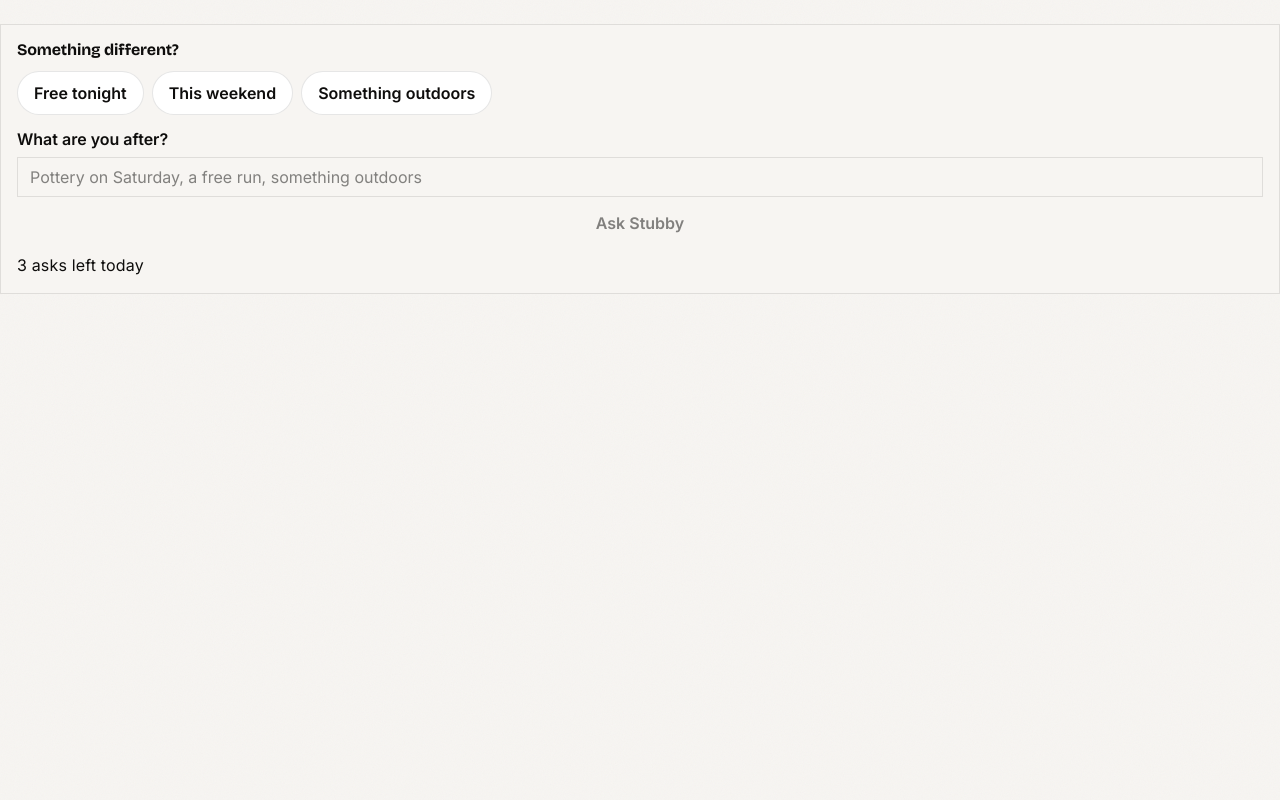
Test: AskStubby › asks, makes Stubby think then stamp, and shows what he found
Expected: the text "3 asks left today" is shown, [17, 255, 144, 275]
Type "pottery on Saturday" into the field labelled "What are you after?". click: (640, 177)
box: [17, 157, 1263, 197]
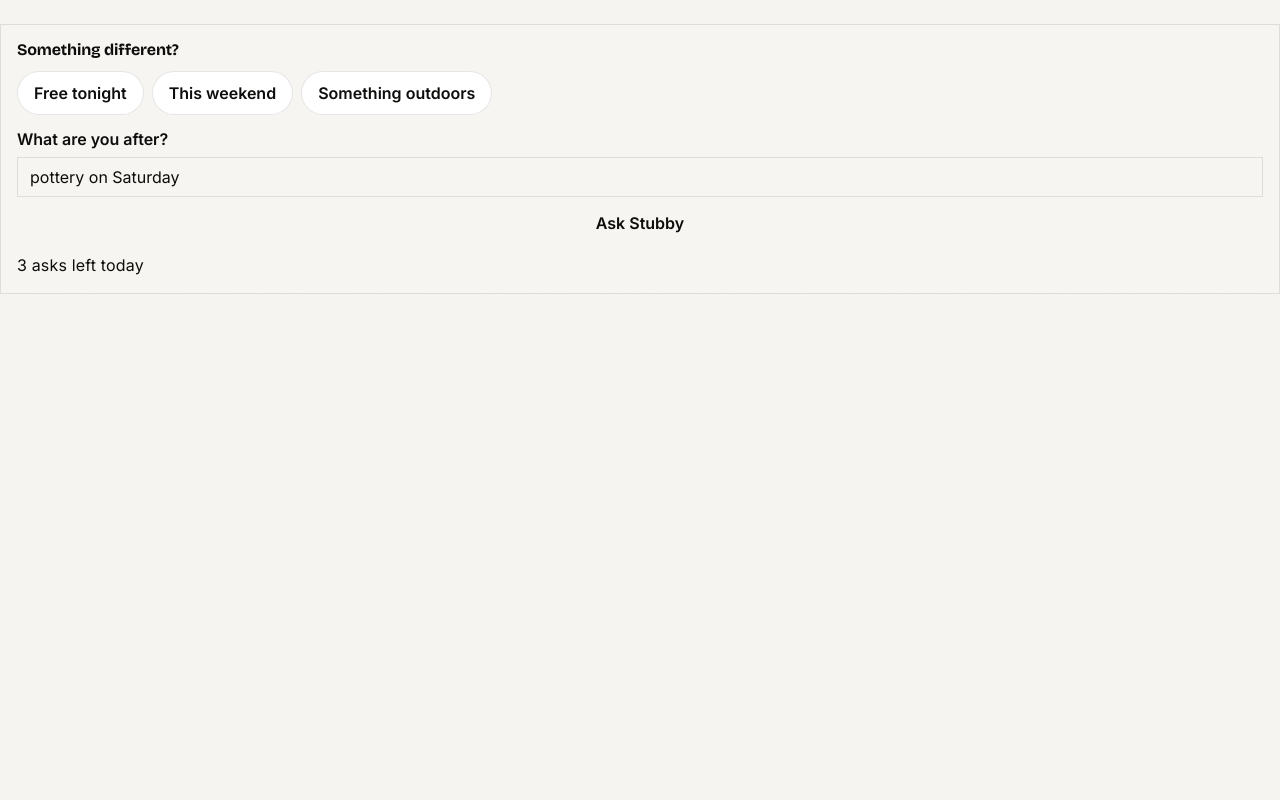
Click the button "Ask Stubby". click: (640, 223)
box: [17, 205, 1263, 241]
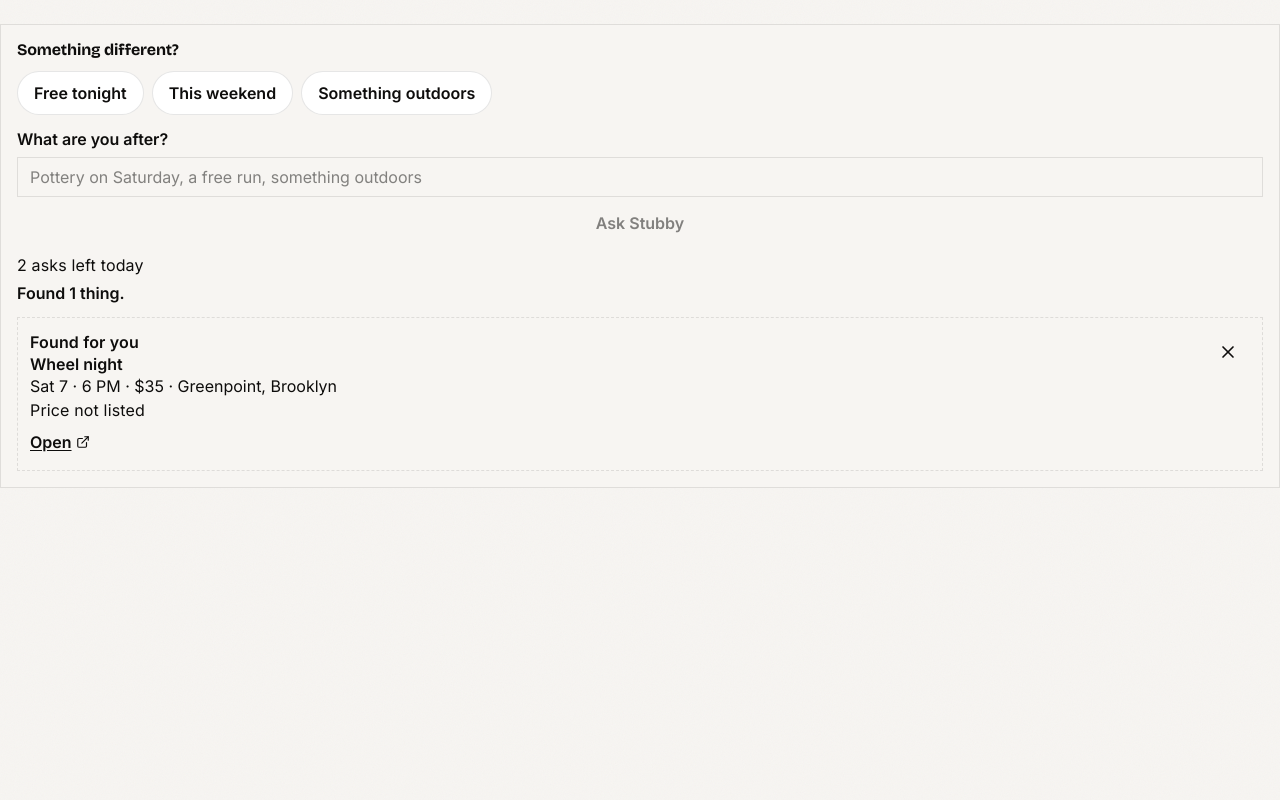
Now the text "Found 1 thing." is shown, box [17, 283, 125, 303]
Now the text "2 asks left today" is shown, box [17, 255, 144, 275]
Now the text "Wheel night" is shown, box [30, 354, 123, 374]
